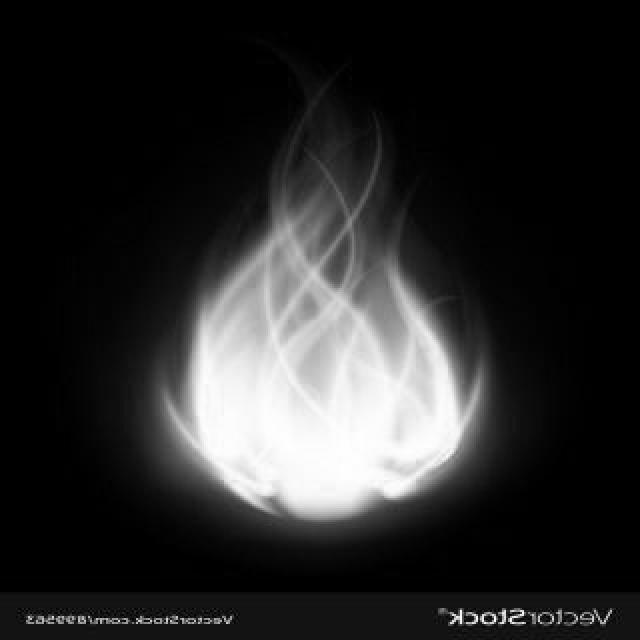Fire: (146, 66, 480, 520)
